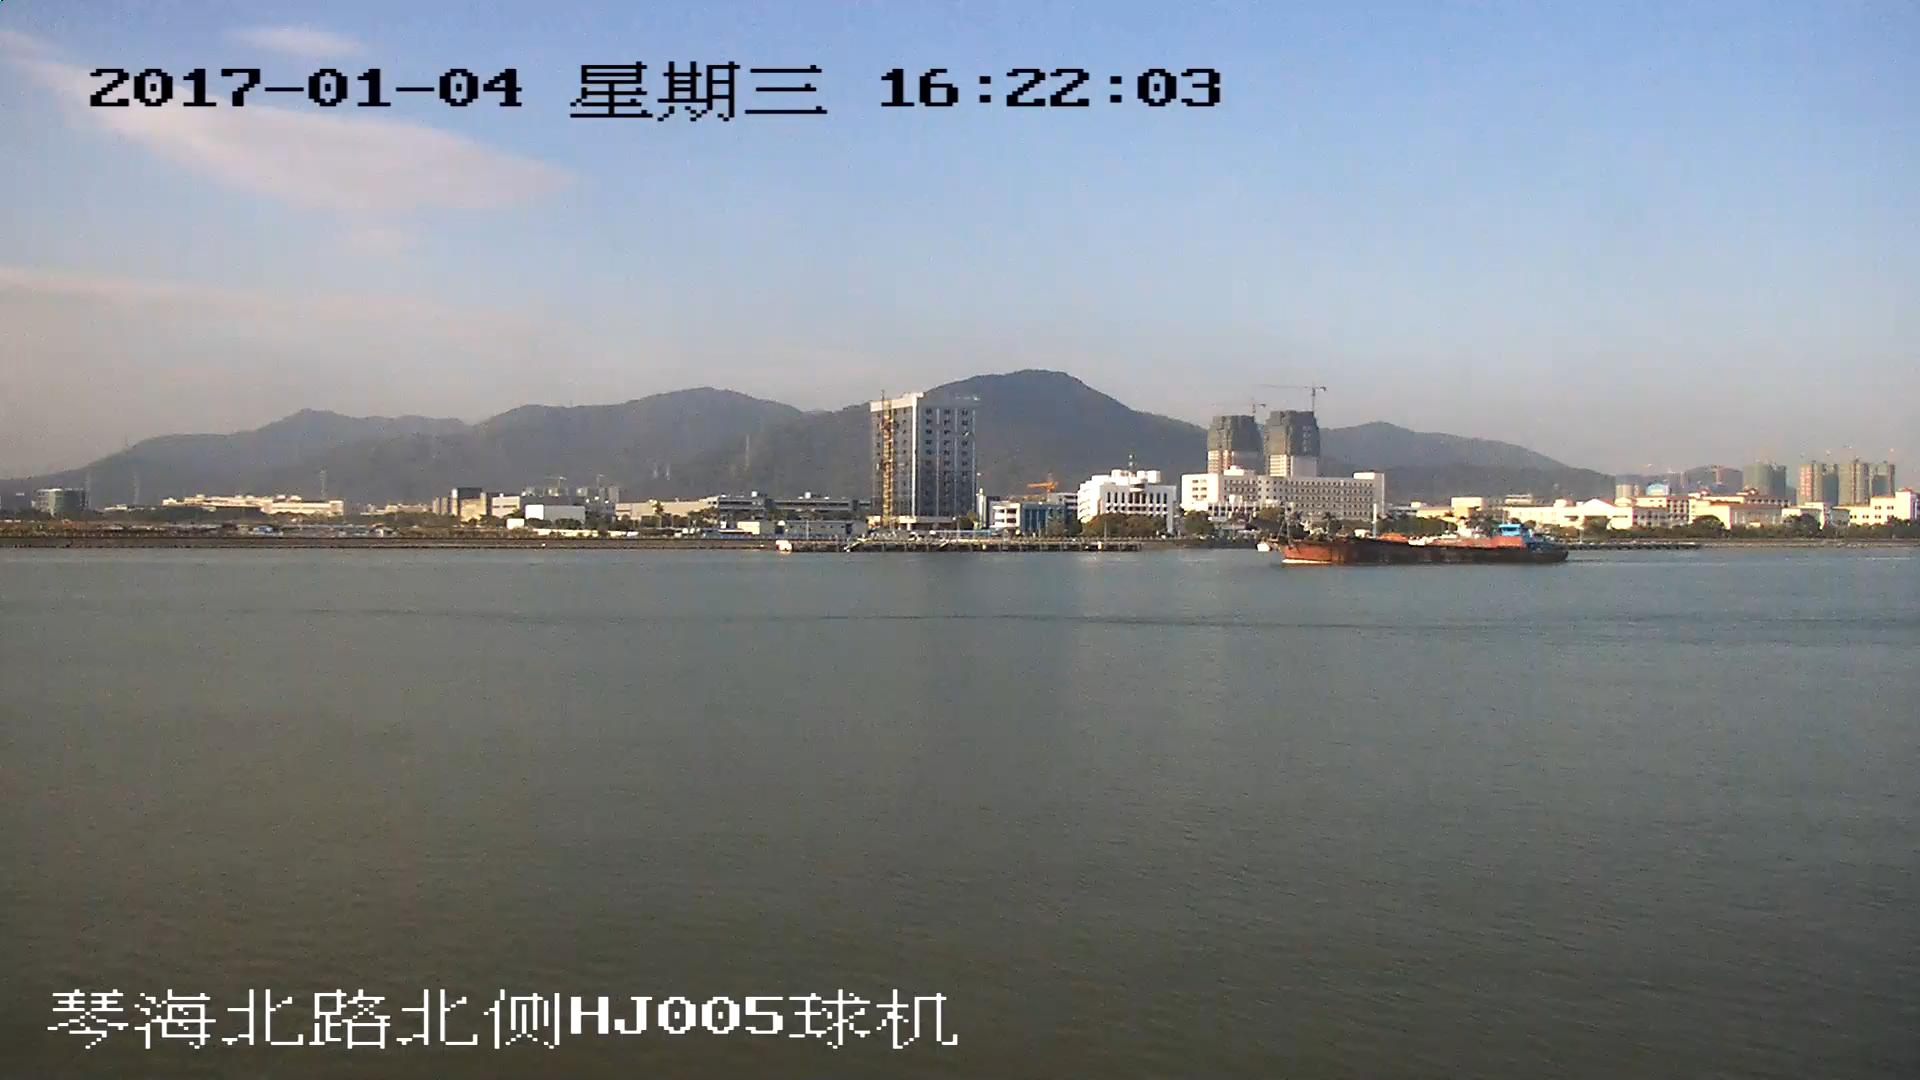bulk cargo carrier: (1249, 513, 1566, 565)
